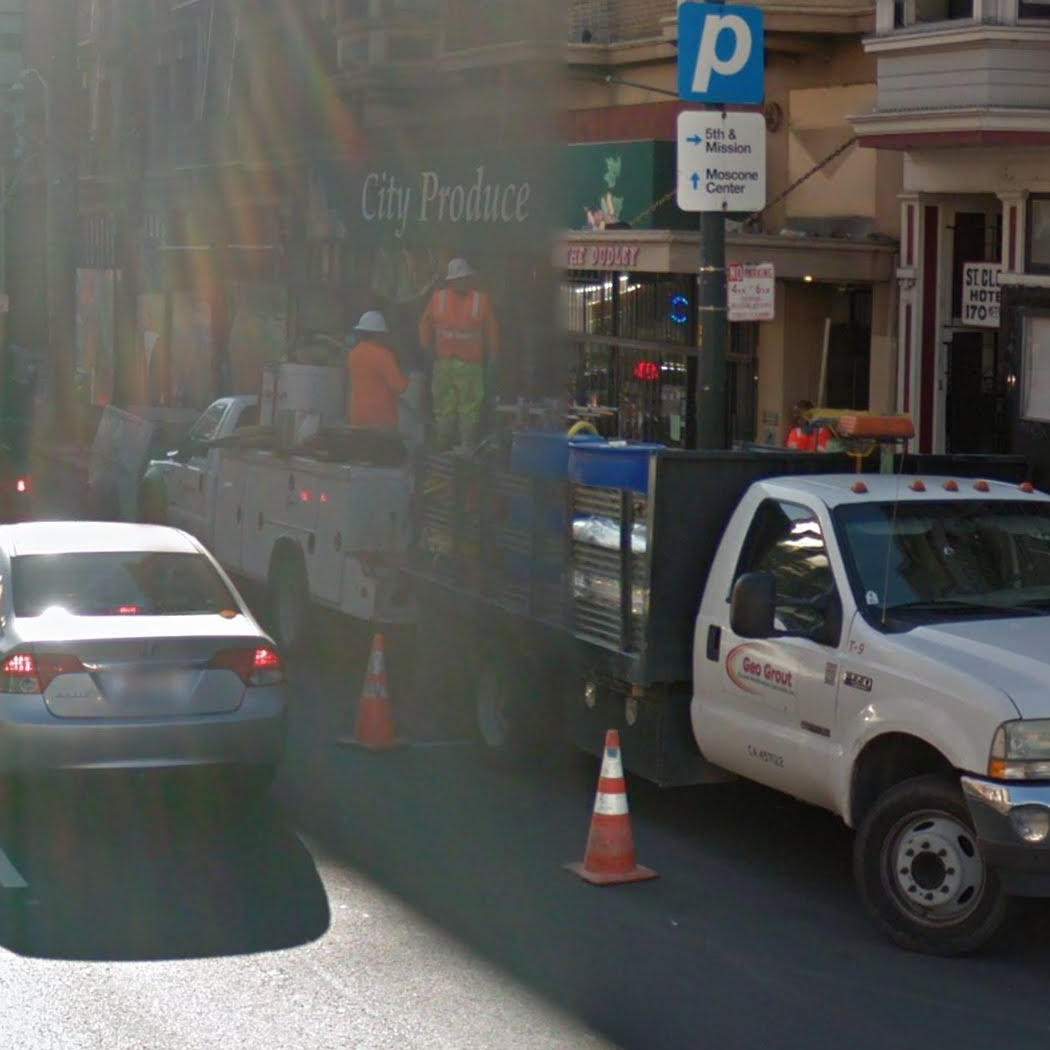No Parking: (724, 261, 777, 325)
